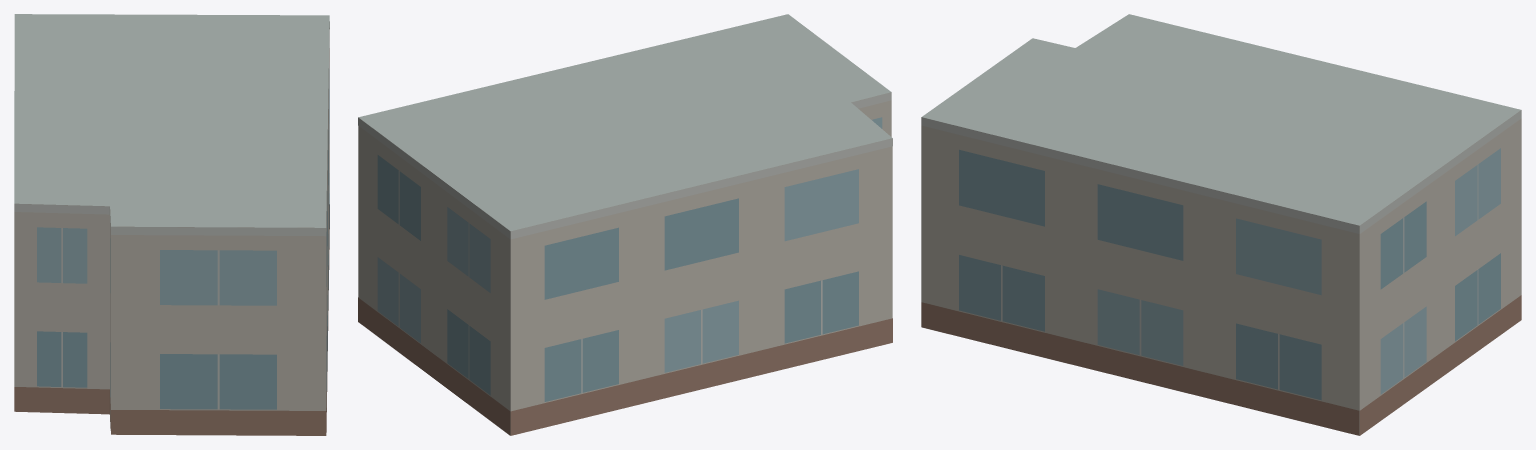
Rendered from survey-upis-32689817.glb.
The picture shows the model from 3 angles, left to right: view 1: azimuth 30°, elevation 25°; view 2: azimuth 150°, elevation 25°; view 3: azimuth 270°, elevation 25°; orthographic projection. The views are drawn at different scales.
Visible parts, largest first — view 1: survey-upis-32689817.tmp; view 2: survey-upis-32689817.tmp; view 3: survey-upis-32689817.tmp.
Boxes of the visible parts, box(x1,y1,x2,y2) form: survey-upis-32689817.tmp: box(14, 14, 329, 435); survey-upis-32689817.tmp: box(358, 14, 892, 435); survey-upis-32689817.tmp: box(921, 14, 1521, 435).
Size of the model in its own units: 13.19 by 6.1 by 15.8.
